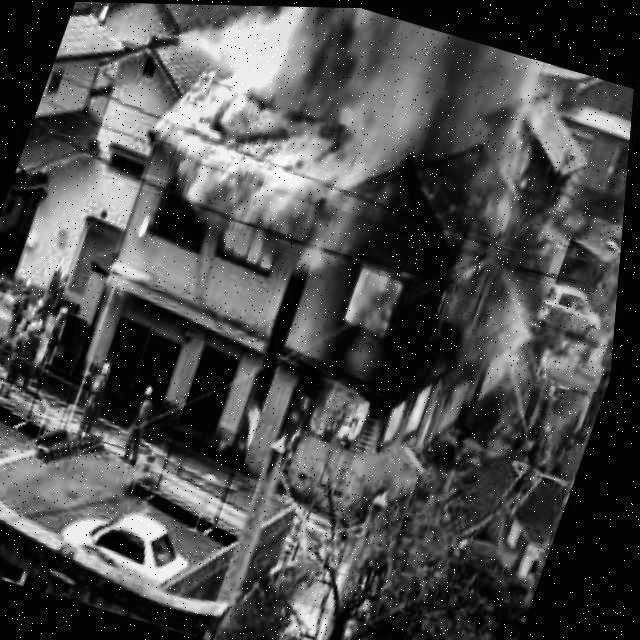Fire: (282, 202, 511, 475), (248, 32, 381, 134), (210, 214, 289, 278)
Smoke: (123, 2, 541, 258)
